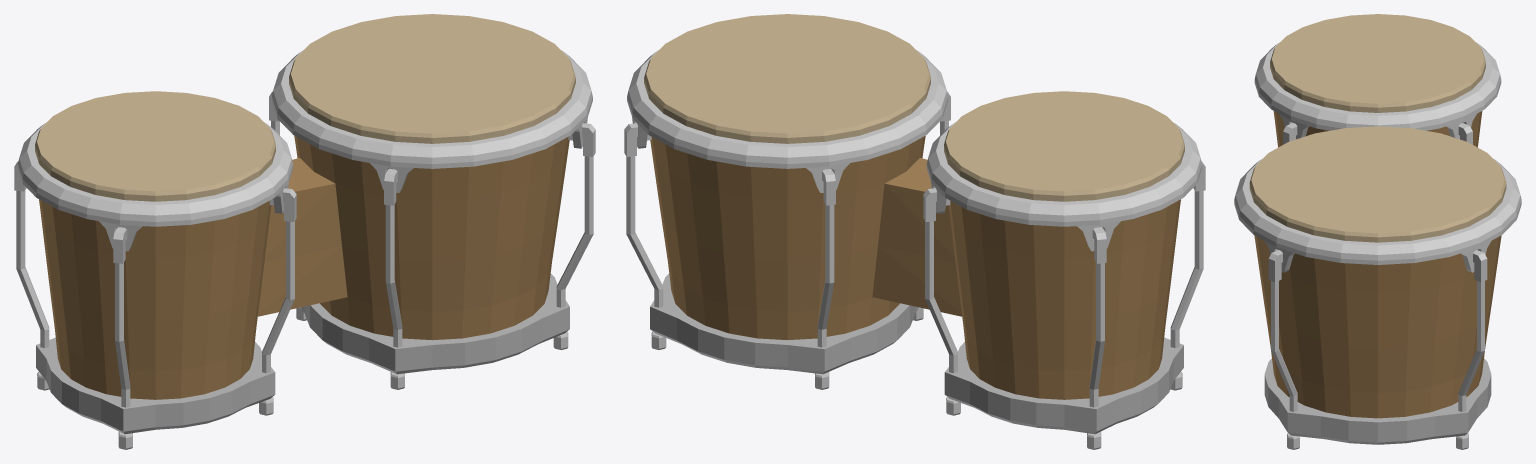
3 views of the same model, side by side, from view 1: azimuth 30°, elevation 25°; view 2: azimuth 150°, elevation 25°; view 3: azimuth 270°, elevation 25° (orthographic). The views are drawn at different scales.
Parts seen in each view (by area): view 1: Large_tapered_shell, Small_tapered_shell, Large_closed_head, Small_closed_head, Large_comfort_upper_rim, Large_lower_rim, Center_bridge, Small_comfort_upper_rim, Small_lower_rim, Small_tension_rod_2, Large_tension_rod_4, Small_tension_rod_4 (+2 smaller); view 2: Large_tapered_shell, Small_tapered_shell, Large_closed_head, Small_closed_head, Large_comfort_upper_rim, Large_lower_rim, Center_bridge, Small_comfort_upper_rim, Small_lower_rim, Small_tension_rod_3, Large_tension_rod_1, Small_tension_rod_1 (+2 smaller); view 3: Large_tapered_shell, Large_closed_head, Small_closed_head, Large_comfort_upper_rim, Large_lower_rim, Small_comfort_upper_rim, Large_tension_rod_1, Large_tension_rod_4, Small_tapered_shell, Large_hooked_tension_tip_1, Large_hooked_tension_tip_4, Large_slotted_rim_tab_1 (+1 smaller).
Boxes of the visible parts, x1,y1,x2,y2 form: Large_tapered_shell: [294, 136, 569, 340]; Small_tapered_shell: [39, 199, 271, 399]; Large_closed_head: [289, 14, 575, 143]; Small_closed_head: [35, 91, 275, 201]; Large_comfort_upper_rim: [272, 50, 592, 168]; Large_lower_rim: [301, 273, 569, 374]; Center_bridge: [258, 157, 347, 316]; Small_comfort_upper_rim: [18, 122, 293, 226]; Small_lower_rim: [36, 337, 275, 434]; Small_tension_rod_2: [16, 190, 49, 348]; Large_tension_rod_4: [556, 156, 593, 307]; Small_tension_rod_4: [262, 221, 294, 373]; Large_tapered_shell: [650, 136, 925, 340]; Small_tapered_shell: [948, 199, 1180, 399]; Large_closed_head: [644, 14, 930, 143]; Small_closed_head: [944, 91, 1184, 201]; Large_comfort_upper_rim: [627, 50, 947, 168]; Large_lower_rim: [650, 273, 918, 374]; Center_bridge: [872, 157, 961, 316]; Small_comfort_upper_rim: [926, 122, 1201, 226]; Small_lower_rim: [944, 337, 1183, 434]; Small_tension_rod_3: [1170, 190, 1203, 348]; Large_tension_rod_1: [626, 156, 663, 307]; Small_tension_rod_1: [925, 221, 957, 373]; Large_tapered_shell: [1254, 235, 1501, 418]; Large_closed_head: [1249, 126, 1506, 242]; Small_closed_head: [1270, 14, 1485, 112]; Large_comfort_upper_rim: [1234, 159, 1521, 264]; Large_lower_rim: [1264, 358, 1491, 444]; Small_comfort_upper_rim: [1254, 42, 1501, 130]; Large_tension_rod_1: [1458, 281, 1484, 411]; Large_tension_rod_4: [1271, 281, 1297, 411]; Small_tapered_shell: [1273, 111, 1482, 147]; Large_hooked_tension_tip_1: [1473, 250, 1487, 282]; Large_hooked_tension_tip_4: [1268, 250, 1282, 282]; Large_slotted_rim_tab_1: [1461, 241, 1490, 272].
Bounding box in the file's own units: 0.4716 × 0.218 × 0.2451.
